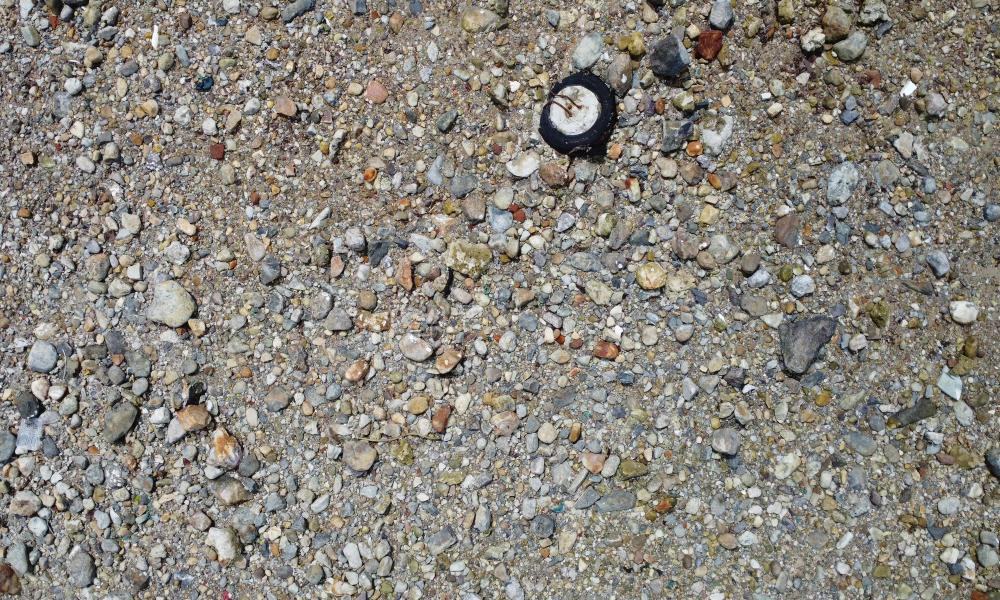tire: (538, 73, 616, 162)
